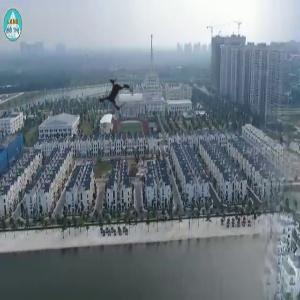drone: (85, 65, 151, 131)
